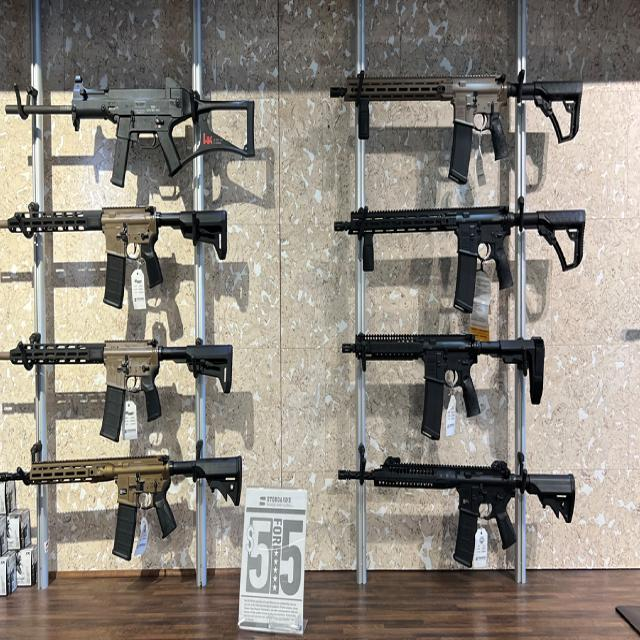Rifle: (336, 205, 587, 442), (332, 74, 584, 186), (338, 452, 576, 569), (8, 336, 232, 446), (6, 204, 229, 310), (30, 456, 241, 563)
SMG: (4, 76, 254, 188)
